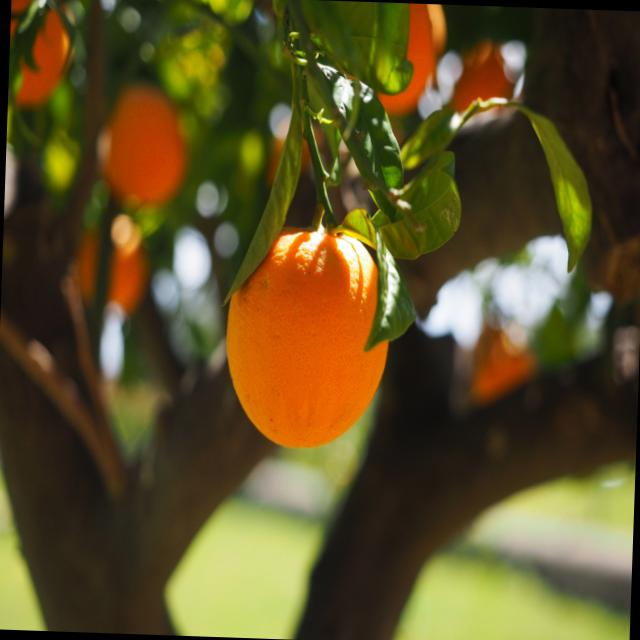laranja: (224, 228, 391, 448), (94, 79, 191, 208)
